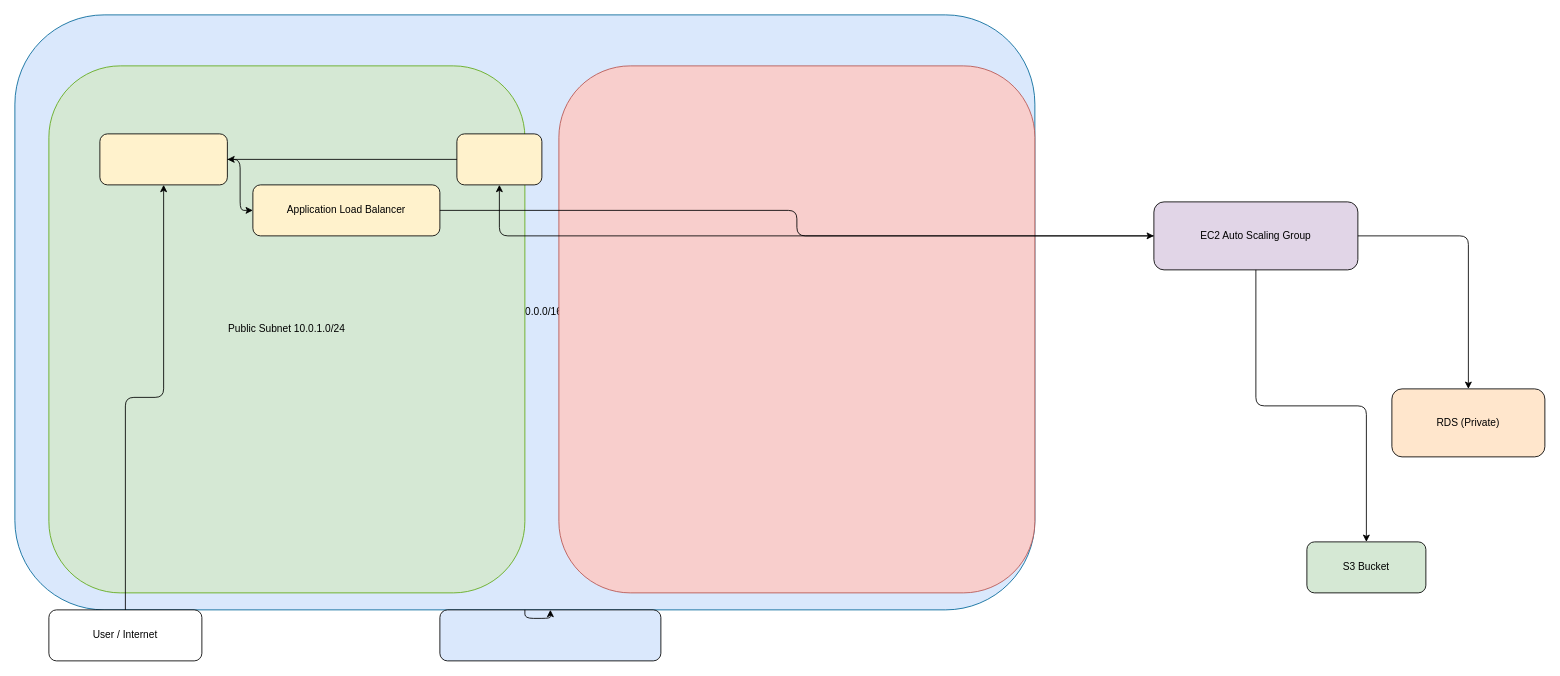
Image size: 1560x676. Some labels were removed from this diagram. The centre of each missing label's shape, as x and y in pixels:
"CloudTrail / CloudWatch" goes at point 550,635.
"Internet Gateway" goes at point 163,159.
"NAT Gateway" goes at point 499,159.
"Private Subnet 10.0.2.0/24" goes at point 796,329.
